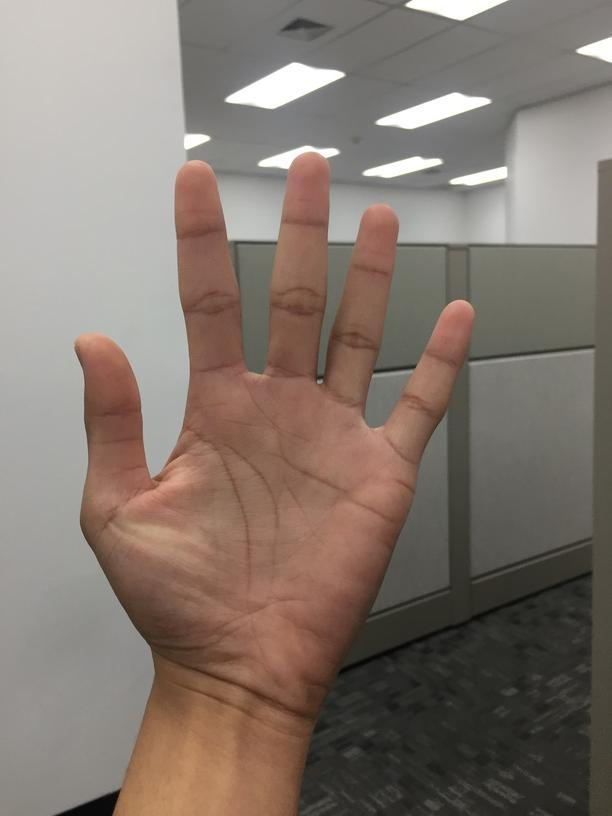hand: (69, 153, 476, 692)
